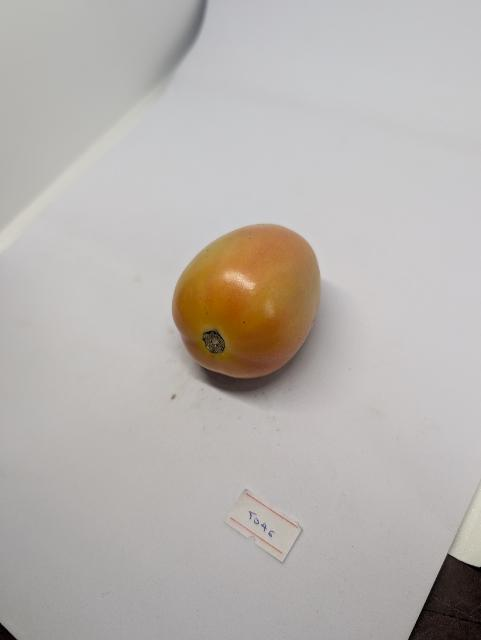turning: (169, 214, 329, 384)
